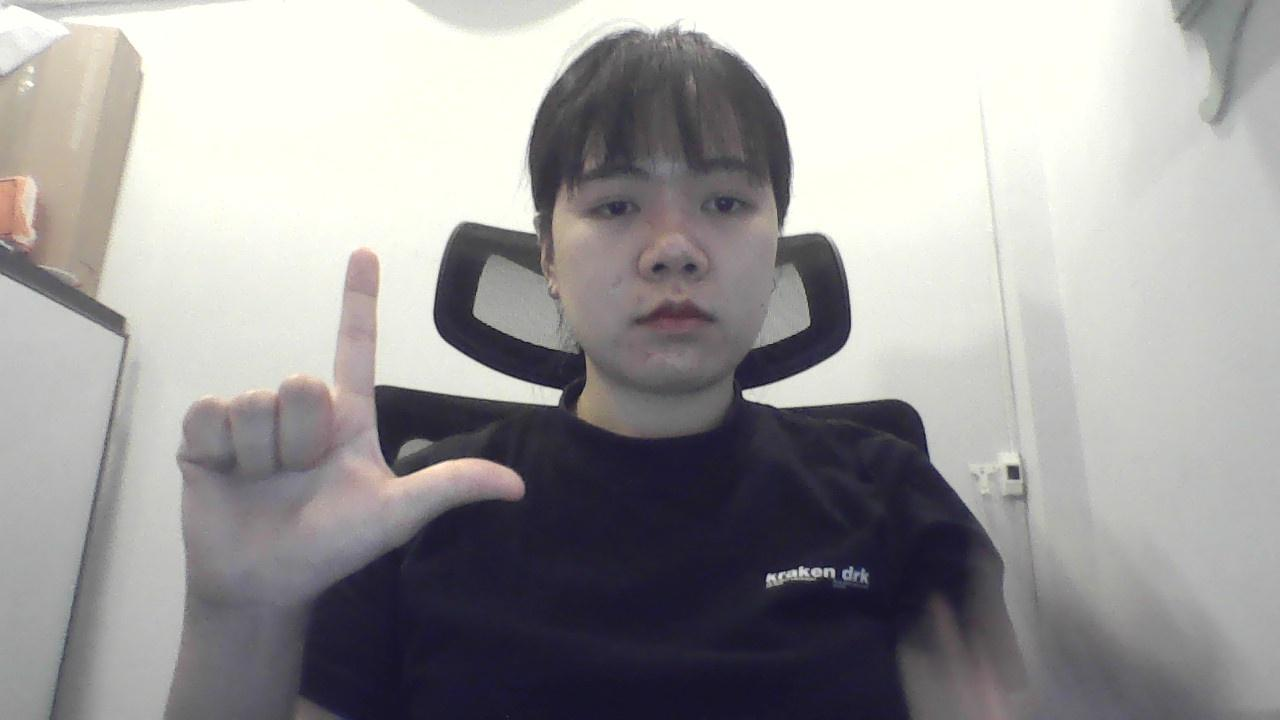L: (172, 242, 542, 619)
